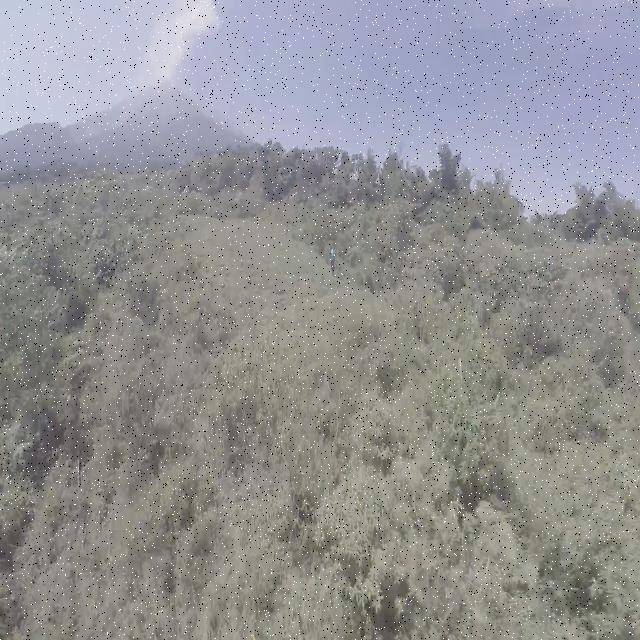Plume: (138, 1, 222, 84)
